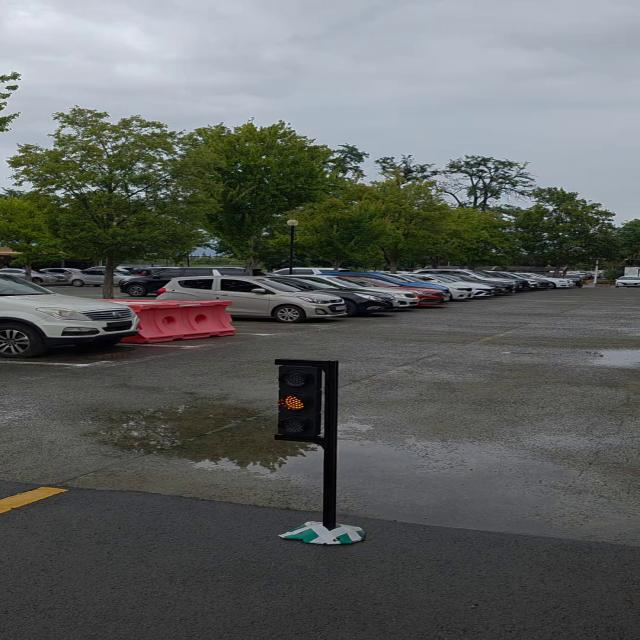yellow: (275, 357, 332, 446)
